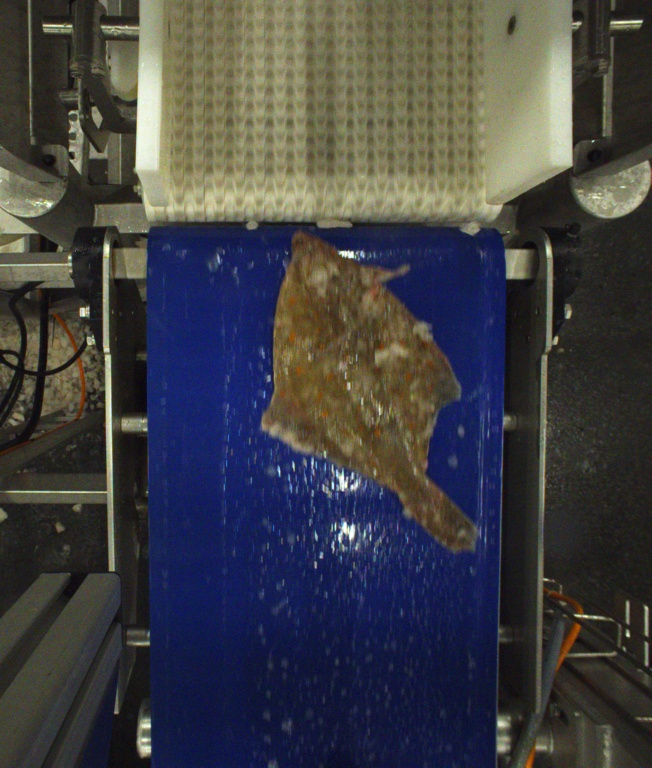PLE: (264, 232, 484, 555)
